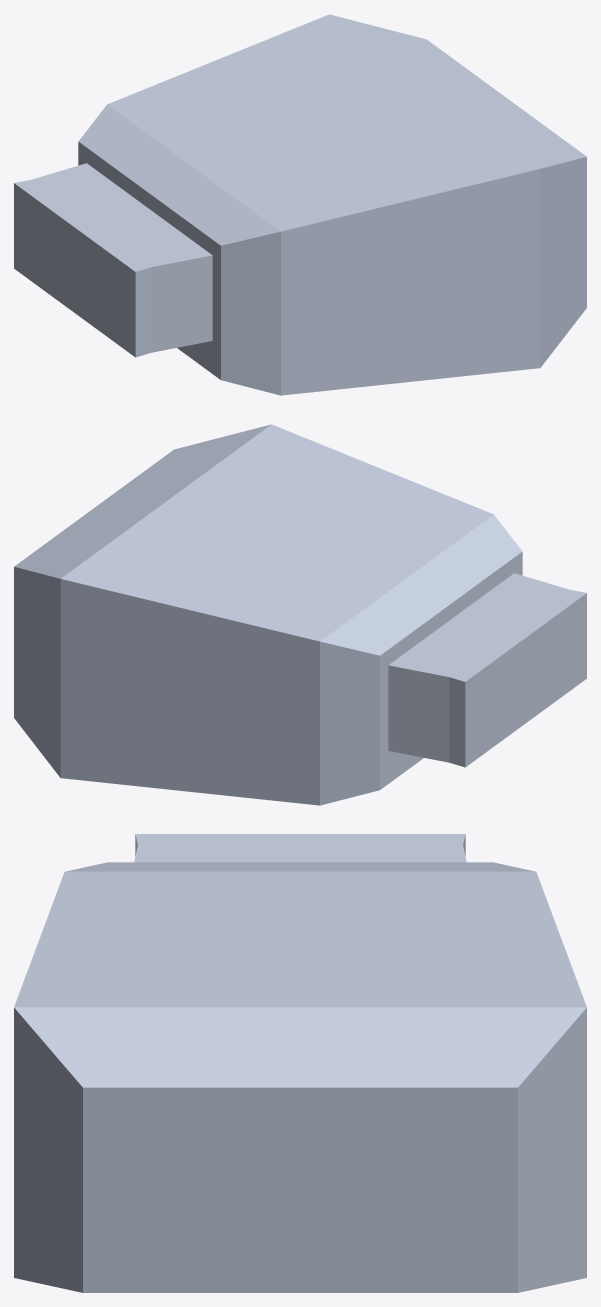
The picture shows the model from 3 angles, top to bottom: view 1: azimuth 30°, elevation 25°; view 2: azimuth 150°, elevation 25°; view 3: azimuth 270°, elevation 25°; orthographic projection. The views are drawn at different scales.
Visible parts, largest first — view 1: Cube; view 2: Cube; view 3: Cube.
Boxes of the visible parts, <box> form: Cube: <box>14,14,586,395</box>; Cube: <box>14,424,586,805</box>; Cube: <box>14,834,586,1292</box>.
Size of the model in its own units: 171 by 75.22 by 144.
